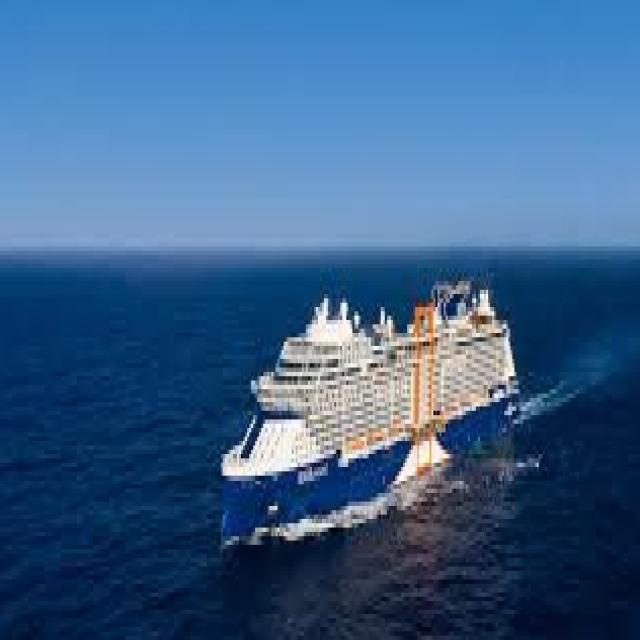passenger ship: (220, 262, 525, 555)
